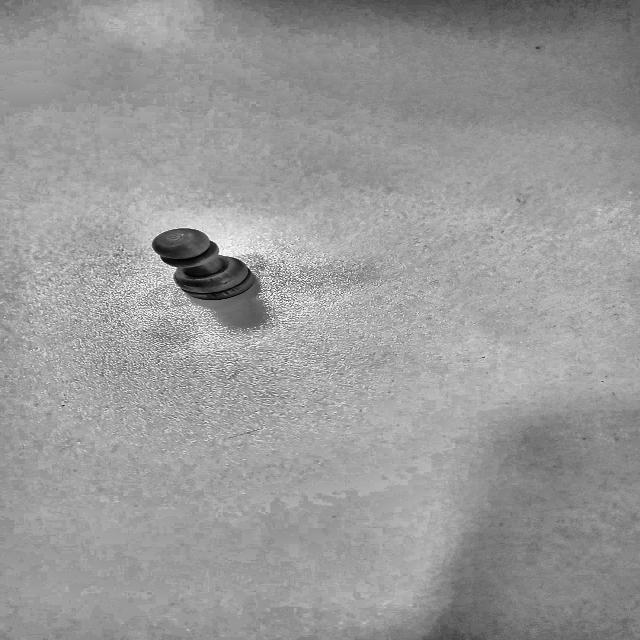white-pawn: (123, 216, 304, 322)
